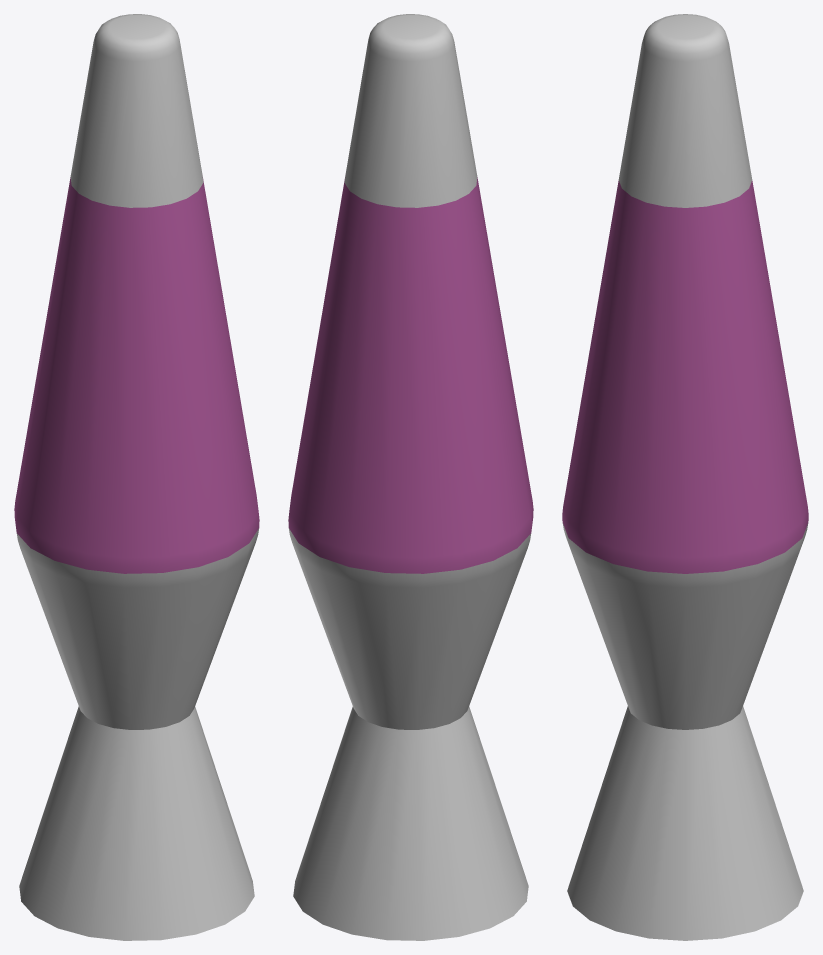
The model's file is lamp.glb.
3 views of the same model, side by side, from view 1: azimuth 30°, elevation 25°; view 2: azimuth 150°, elevation 25°; view 3: azimuth 270°, elevation 25° (orthographic).
Parts seen in each view (by area): view 1: body, glass; view 2: body, glass; view 3: body, glass.
Part boxes in pixels (x1,y1,x2,y2): body: [16, 14, 259, 940]; glass: [14, 177, 259, 573]; body: [288, 14, 531, 940]; glass: [288, 177, 533, 573]; body: [562, 14, 808, 940]; glass: [562, 180, 808, 573].
Bounding box in the file's own units: 91.21 × 353 × 91.21.
